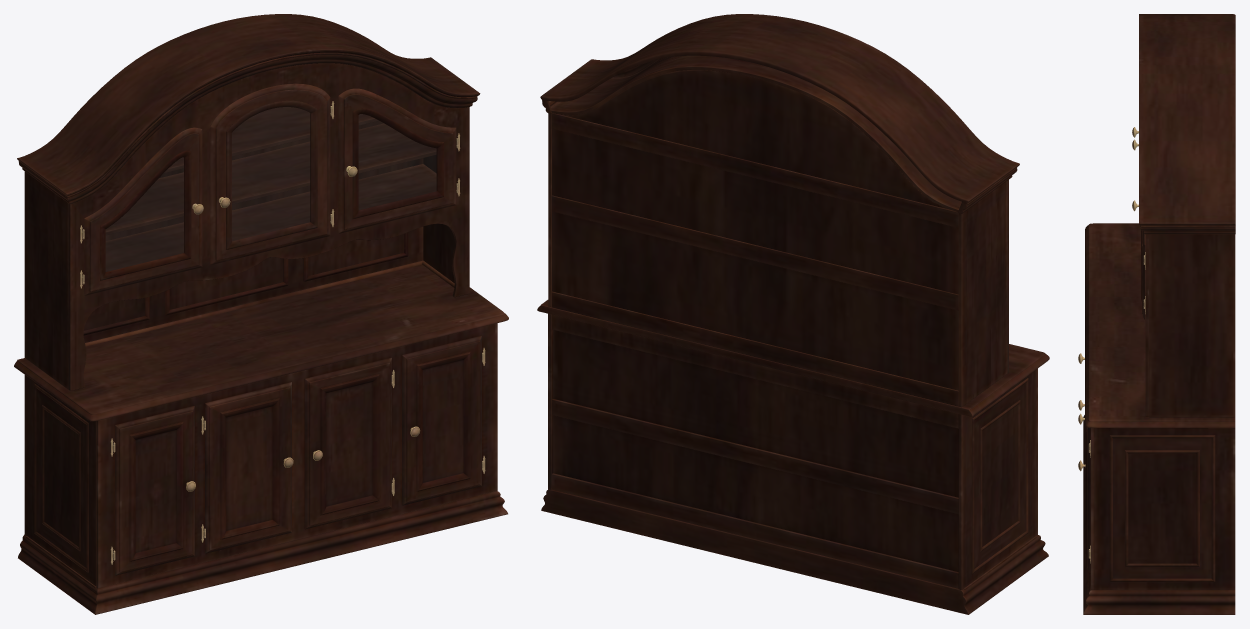
File: vintage_cabinet_01.glb
3 views of the same model, side by side, from view 1: azimuth 30°, elevation 25°; view 2: azimuth 150°, elevation 25°; view 3: azimuth 270°, elevation 25° (orthographic). The views are drawn at different scales.
Size of the model in its own units: 2.02 by 2.24 by 0.6698.
3 materials, 2 textured.
